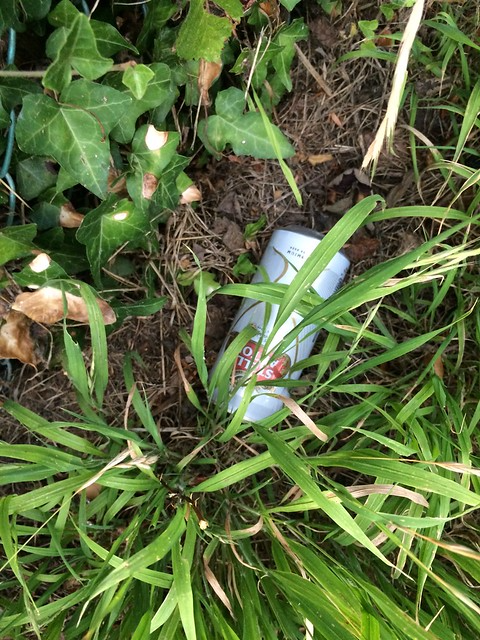can: (212, 213, 352, 444)
